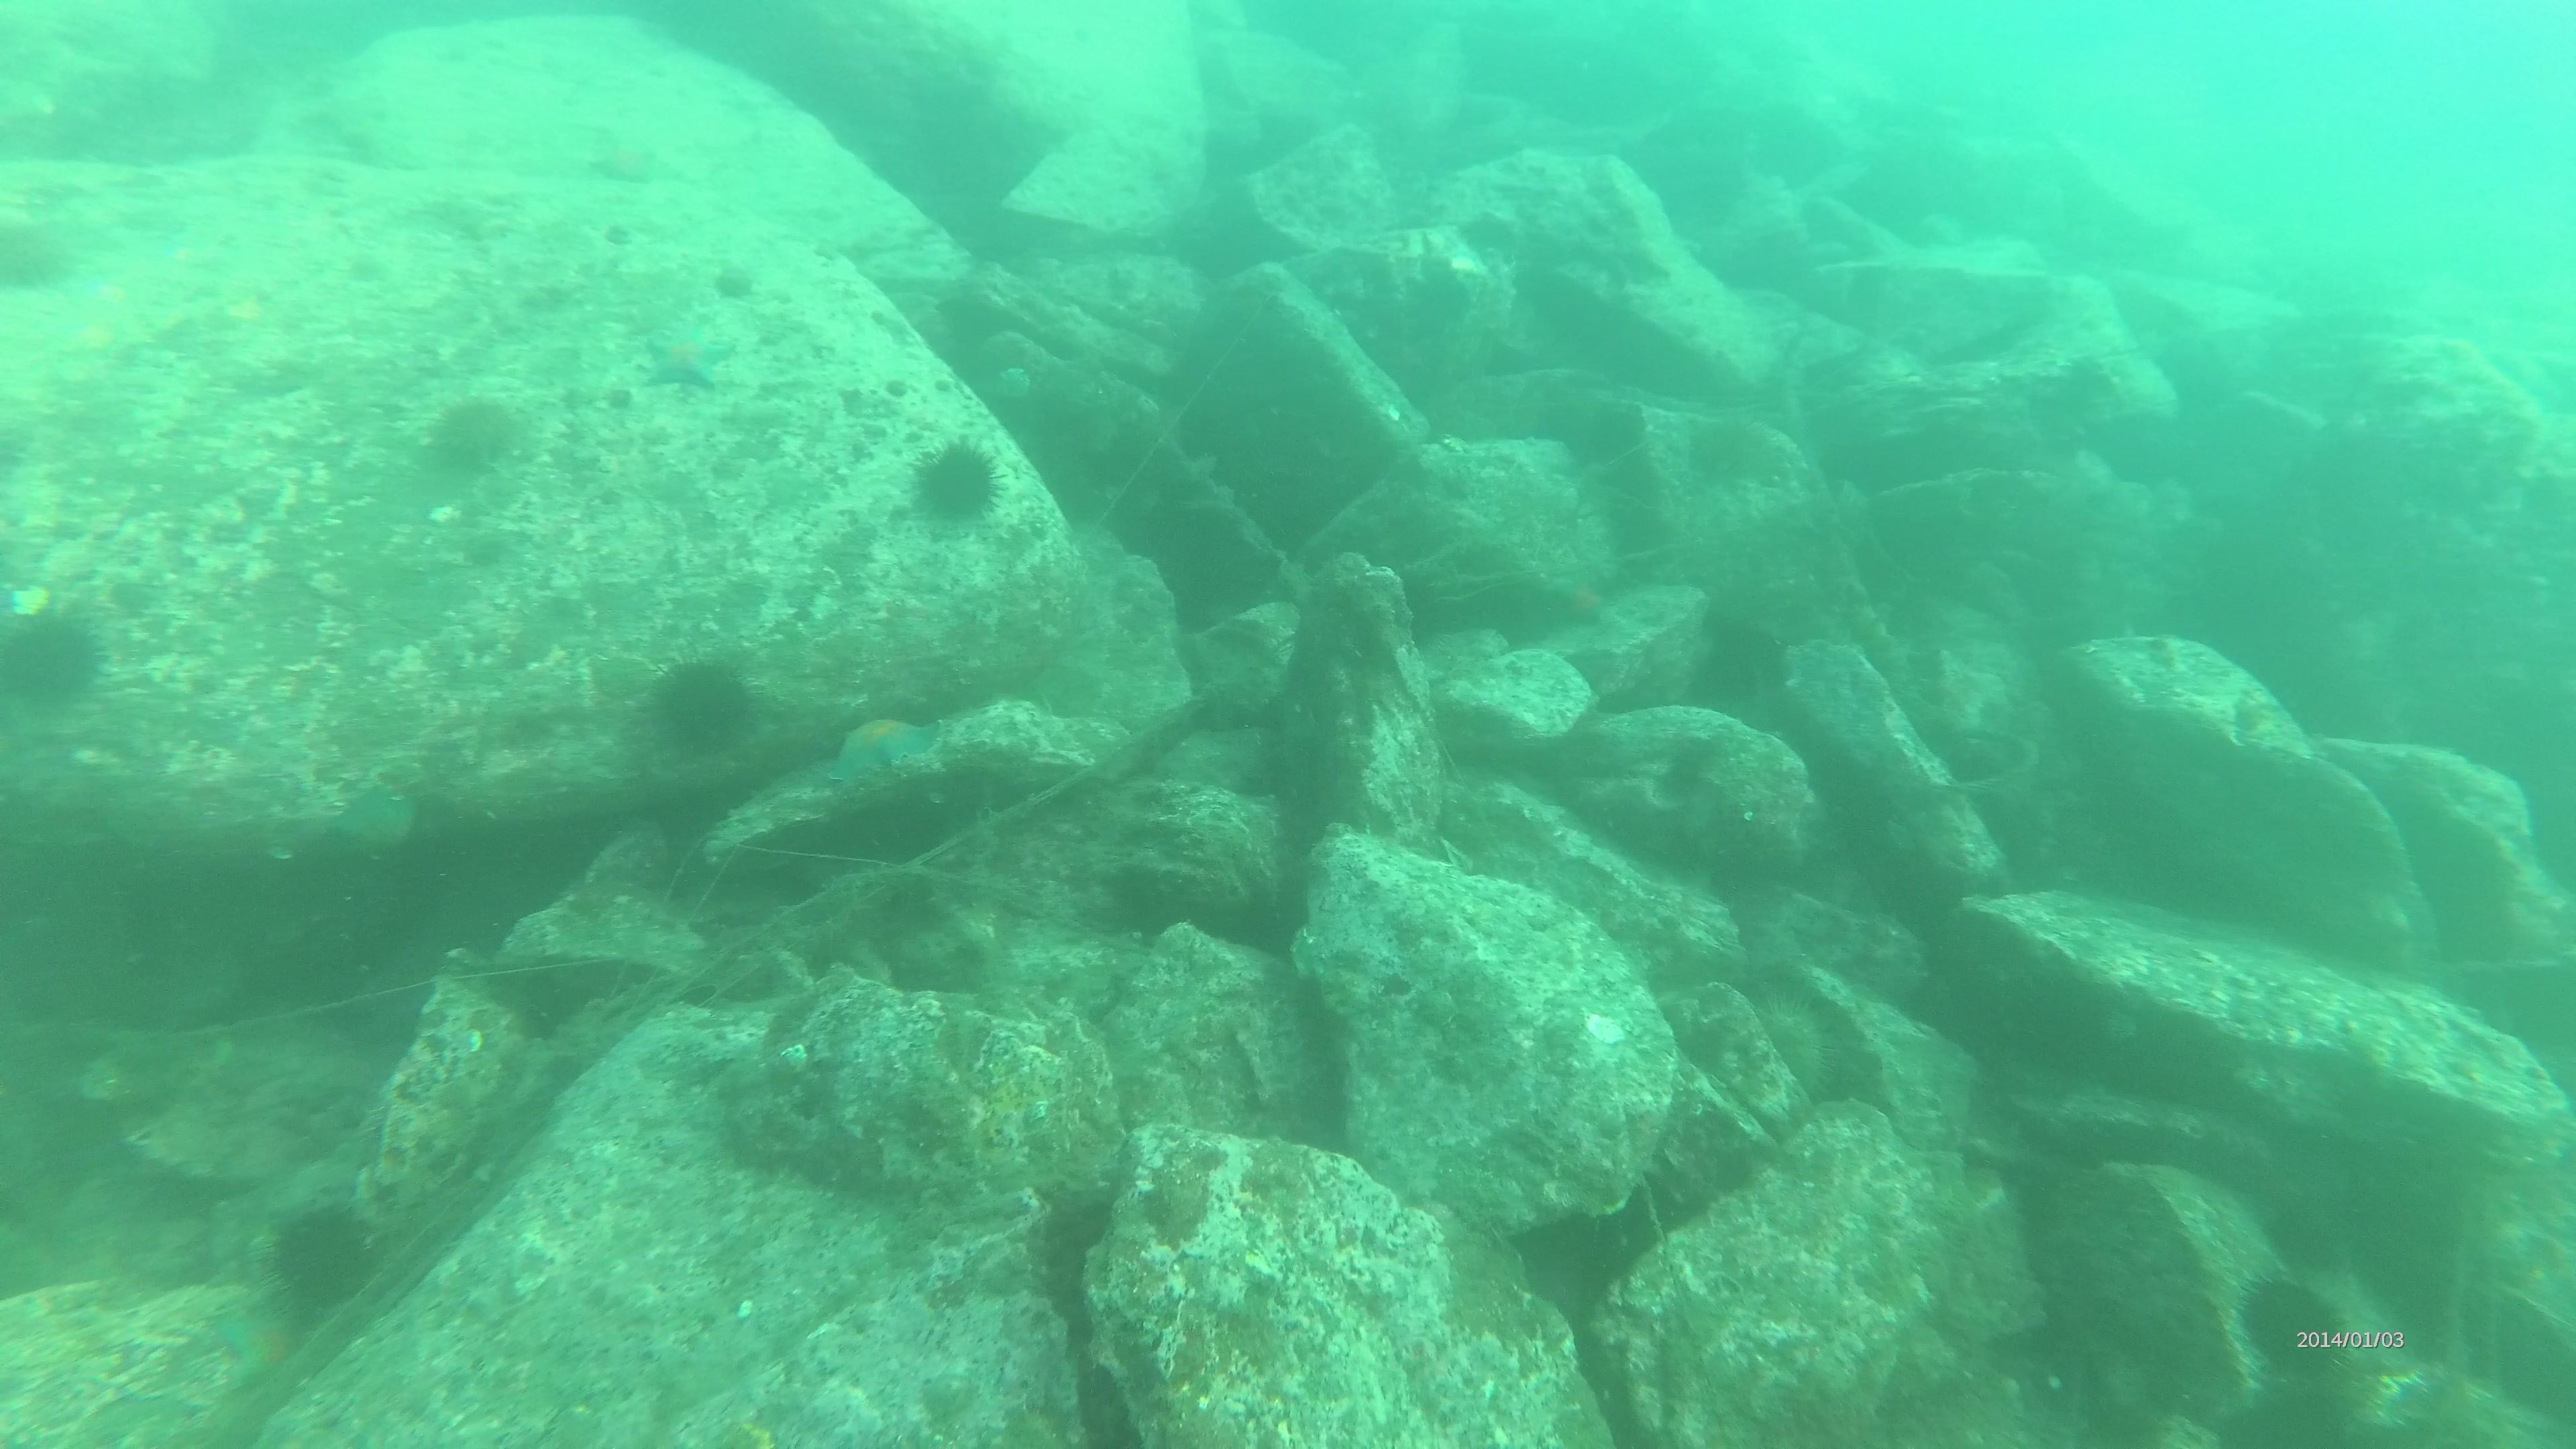echinus: (633, 649, 763, 770), (2229, 1265, 2350, 1380), (414, 384, 541, 488), (906, 428, 1024, 538), (0, 603, 113, 713), (1683, 410, 1766, 499), (0, 207, 78, 299)
starfish: (828, 704, 952, 786)
